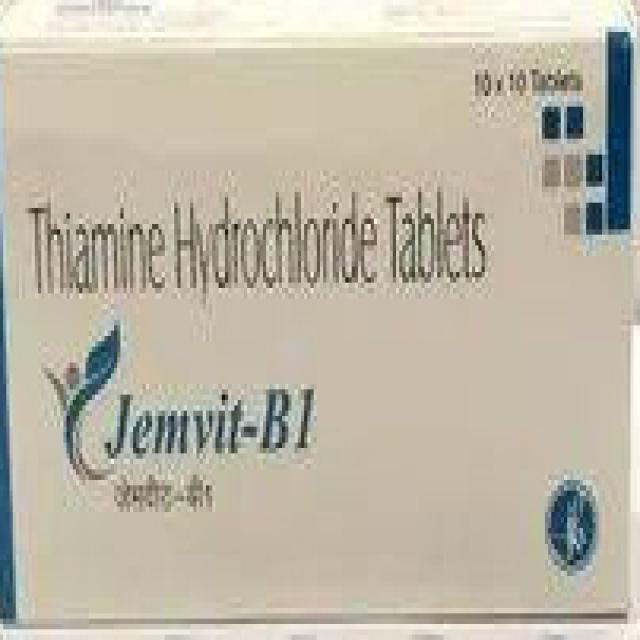drug-name: (102, 390, 328, 460)
